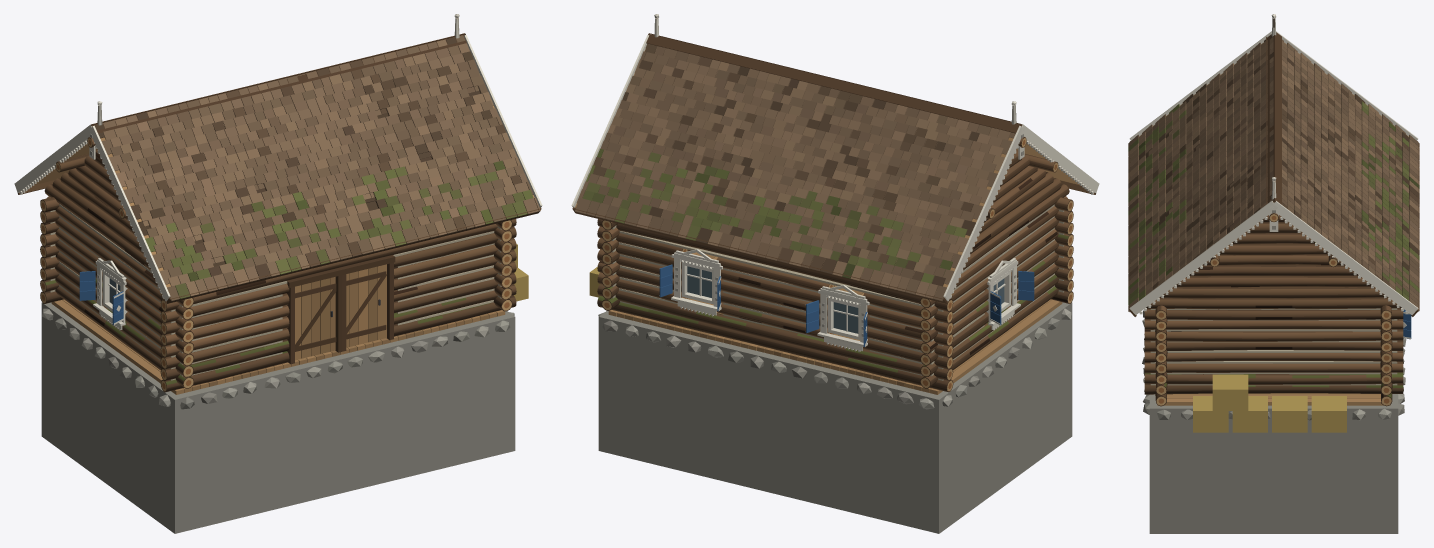
Rendered from ahir.glb.
3 renders of one model, left to right at view 1: azimuth 30°, elevation 25°; view 2: azimuth 150°, elevation 25°; view 3: azimuth 270°, elevation 25°, orthographic. The views are drawn at different scales.
Visible parts, largest first — view 1: stone-plinth-001, shingle-003, shingle-002, shingle-001, plank-001, plank-door-004, plank-door-005, plank-barge-002, log-050, dark-003, stone-found-002, dark-005 (+31 smaller); view 2: stone-plinth-001, shingle-006, shingle-005, shingle-004, dark-003, log-008, plank-001, log-003, log-051, plank-barge-002, stone-found-003, plank-trim-012 (+33 smaller); view 3: stone-plinth-001, shingle-003, shingle-006, shingle-002, shingle-005, shingle-001, shingle-004, thatch-hay-001, plank-barge-003, log-042, log-049, log-057 (+17 smaller).
Boxes of the visible parts, left/top/right/bottom form: stone-plinth-001: left=41, top=302, right=515, bottom=533; shingle-003: left=145, top=149, right=540, bottom=301; shingle-002: left=122, top=92, right=513, bottom=241; shingle-001: left=94, top=35, right=487, bottom=187; plank-001: left=51, top=299, right=505, bottom=394; plank-door-004: left=295, top=277, right=336, bottom=360; plank-door-005: left=346, top=264, right=386, bottom=347; plank-barge-002: left=14, top=124, right=170, bottom=301; log-050: left=160, top=219, right=516, bottom=311; dark-003: left=91, top=33, right=466, bottom=133; stone-found-002: left=180, top=320, right=510, bottom=409; dark-005: left=335, top=255, right=395, bottom=352; stone-plinth-001: left=598, top=302, right=1072, bottom=533; shingle-006: left=575, top=149, right=968, bottom=301; shingle-005: left=600, top=92, right=991, bottom=240; shingle-004: left=626, top=44, right=1015, bottom=187; dark-003: left=646, top=33, right=1022, bottom=133; log-008: left=597, top=284, right=953, bottom=380; plank-001: left=608, top=252, right=1062, bottom=394; log-003: left=597, top=296, right=953, bottom=392; log-051: left=597, top=219, right=953, bottom=311; plank-barge-002: left=943, top=124, right=1099, bottom=301; stone-found-003: left=602, top=320, right=934, bottom=409; plank-trim-012: left=671, top=249, right=722, bottom=316; stone-plinth-001: left=1149, top=394, right=1398, bottom=533; shingle-003: left=1128, top=104, right=1179, bottom=311; shingle-006: left=1368, top=104, right=1419, bottom=311; shingle-002: left=1179, top=70, right=1226, bottom=269; shingle-005: left=1321, top=70, right=1368, bottom=269; shingle-001: left=1223, top=34, right=1273, bottom=233; shingle-004: left=1274, top=39, right=1324, bottom=233; thatch-hay-001: left=1193, top=374, right=1346, bottom=432; plank-barge-003: left=1129, top=201, right=1418, bottom=314; log-042: left=1144, top=329, right=1403, bottom=342; log-049: left=1144, top=319, right=1403, bottom=331; log-057: left=1146, top=297, right=1401, bottom=309.
Bounding box in the file's own units: 10.8 × 10.08 × 7.37.
